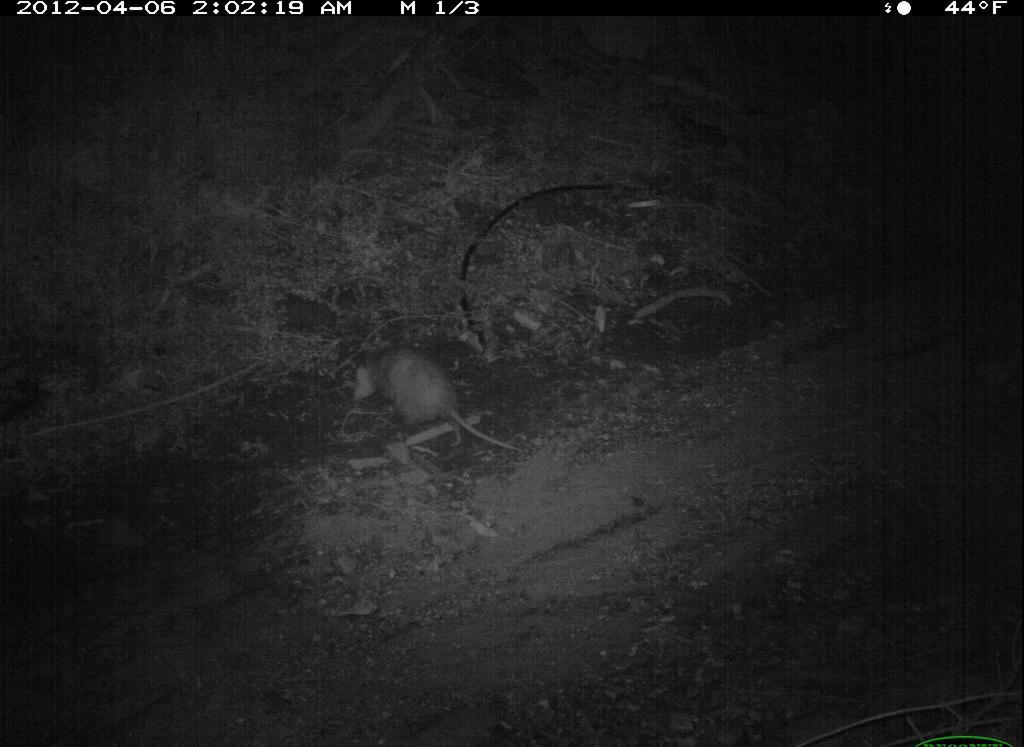opossum: (348, 345, 530, 456)
